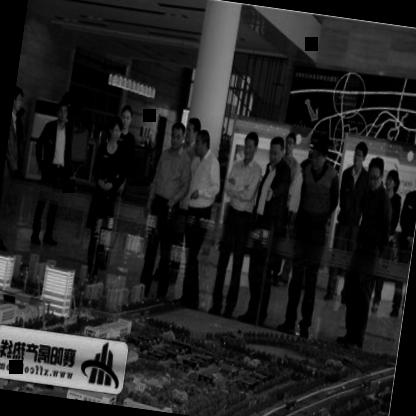head: (308, 133, 332, 171), (238, 127, 262, 164), (166, 121, 190, 156), (349, 138, 370, 175), (267, 135, 290, 168), (364, 155, 384, 190), (11, 80, 28, 121), (194, 128, 215, 161), (184, 113, 202, 148), (53, 97, 73, 127), (107, 113, 125, 145), (119, 102, 135, 134), (384, 170, 402, 196), (284, 130, 300, 156)
